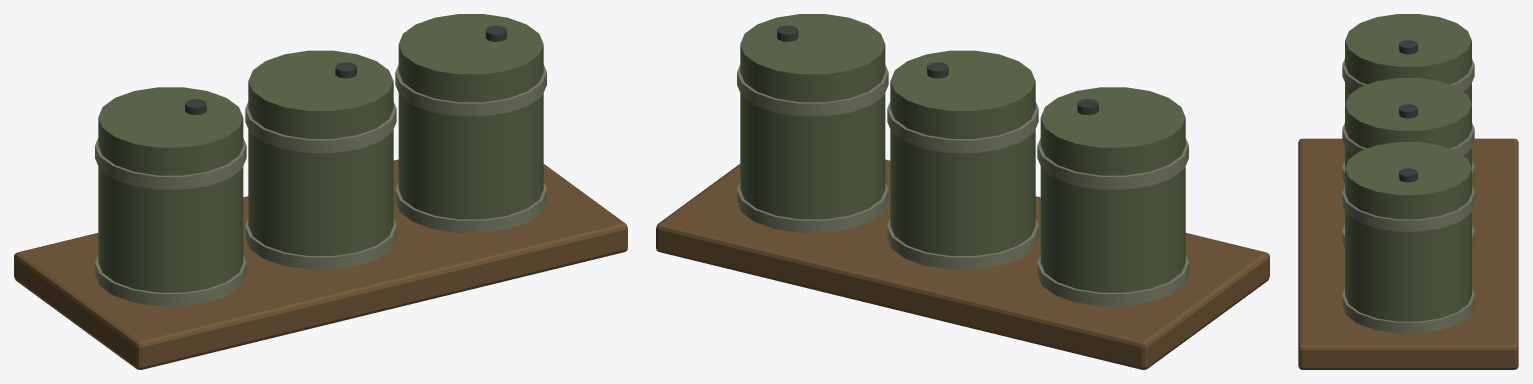
Rendered from prop-barrel-machine.glb.
3 renders of one model, left to right at view 1: azimuth 30°, elevation 25°; view 2: azimuth 150°, elevation 25°; view 3: azimuth 270°, elevation 25°, orthographic. The views are drawn at different scales.
Parts seen in each view (by area): view 1: Armor, Timber, EdgeSteel, Steel; view 2: Armor, Timber, EdgeSteel, Steel; view 3: Armor, Timber, EdgeSteel, Steel.
Part boxes in pixels (box(x1,y1,x2,y2)): Armor: box(98, 14, 543, 292); Timber: box(14, 159, 627, 369); EdgeSteel: box(95, 64, 546, 306); Steel: box(185, 25, 506, 115); Armor: box(740, 14, 1185, 292); Timber: box(656, 159, 1269, 369); EdgeSteel: box(737, 64, 1188, 306); Steel: box(777, 25, 1098, 115); Armor: box(1345, 14, 1471, 321); Timber: box(1298, 138, 1518, 369); EdgeSteel: box(1342, 59, 1474, 333); Steel: box(1399, 40, 1417, 182).
Size of the model in its own units: 1.8 by 0.6775 by 0.8.
